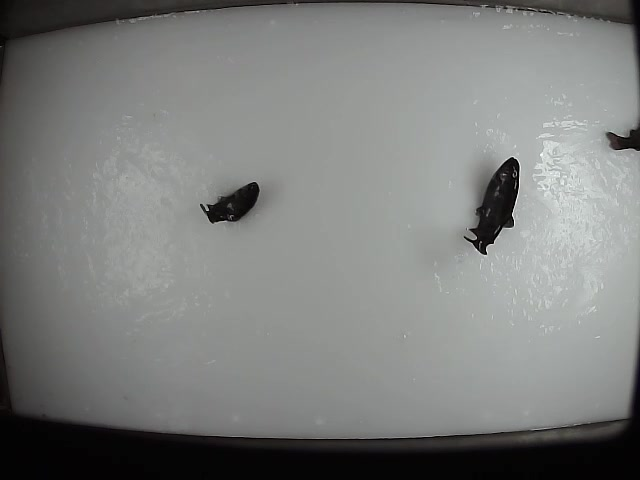fish: (462, 153, 522, 257), (466, 155, 519, 245), (198, 179, 261, 228)
